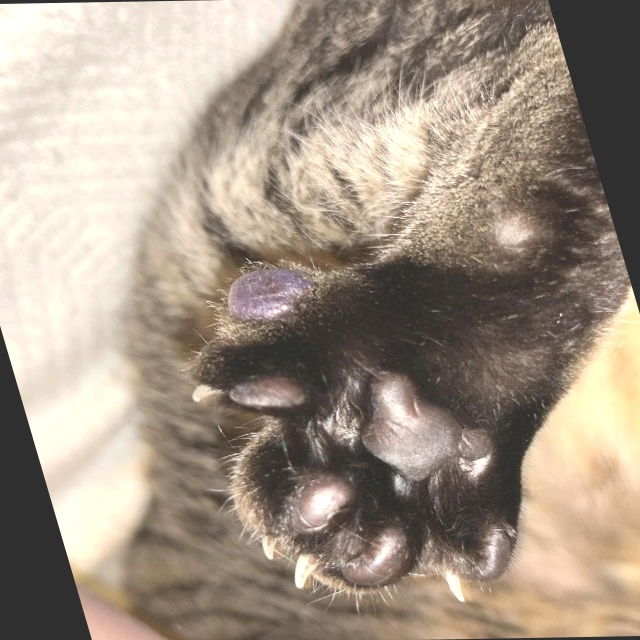lump_and_bump: (207, 266, 328, 329)
